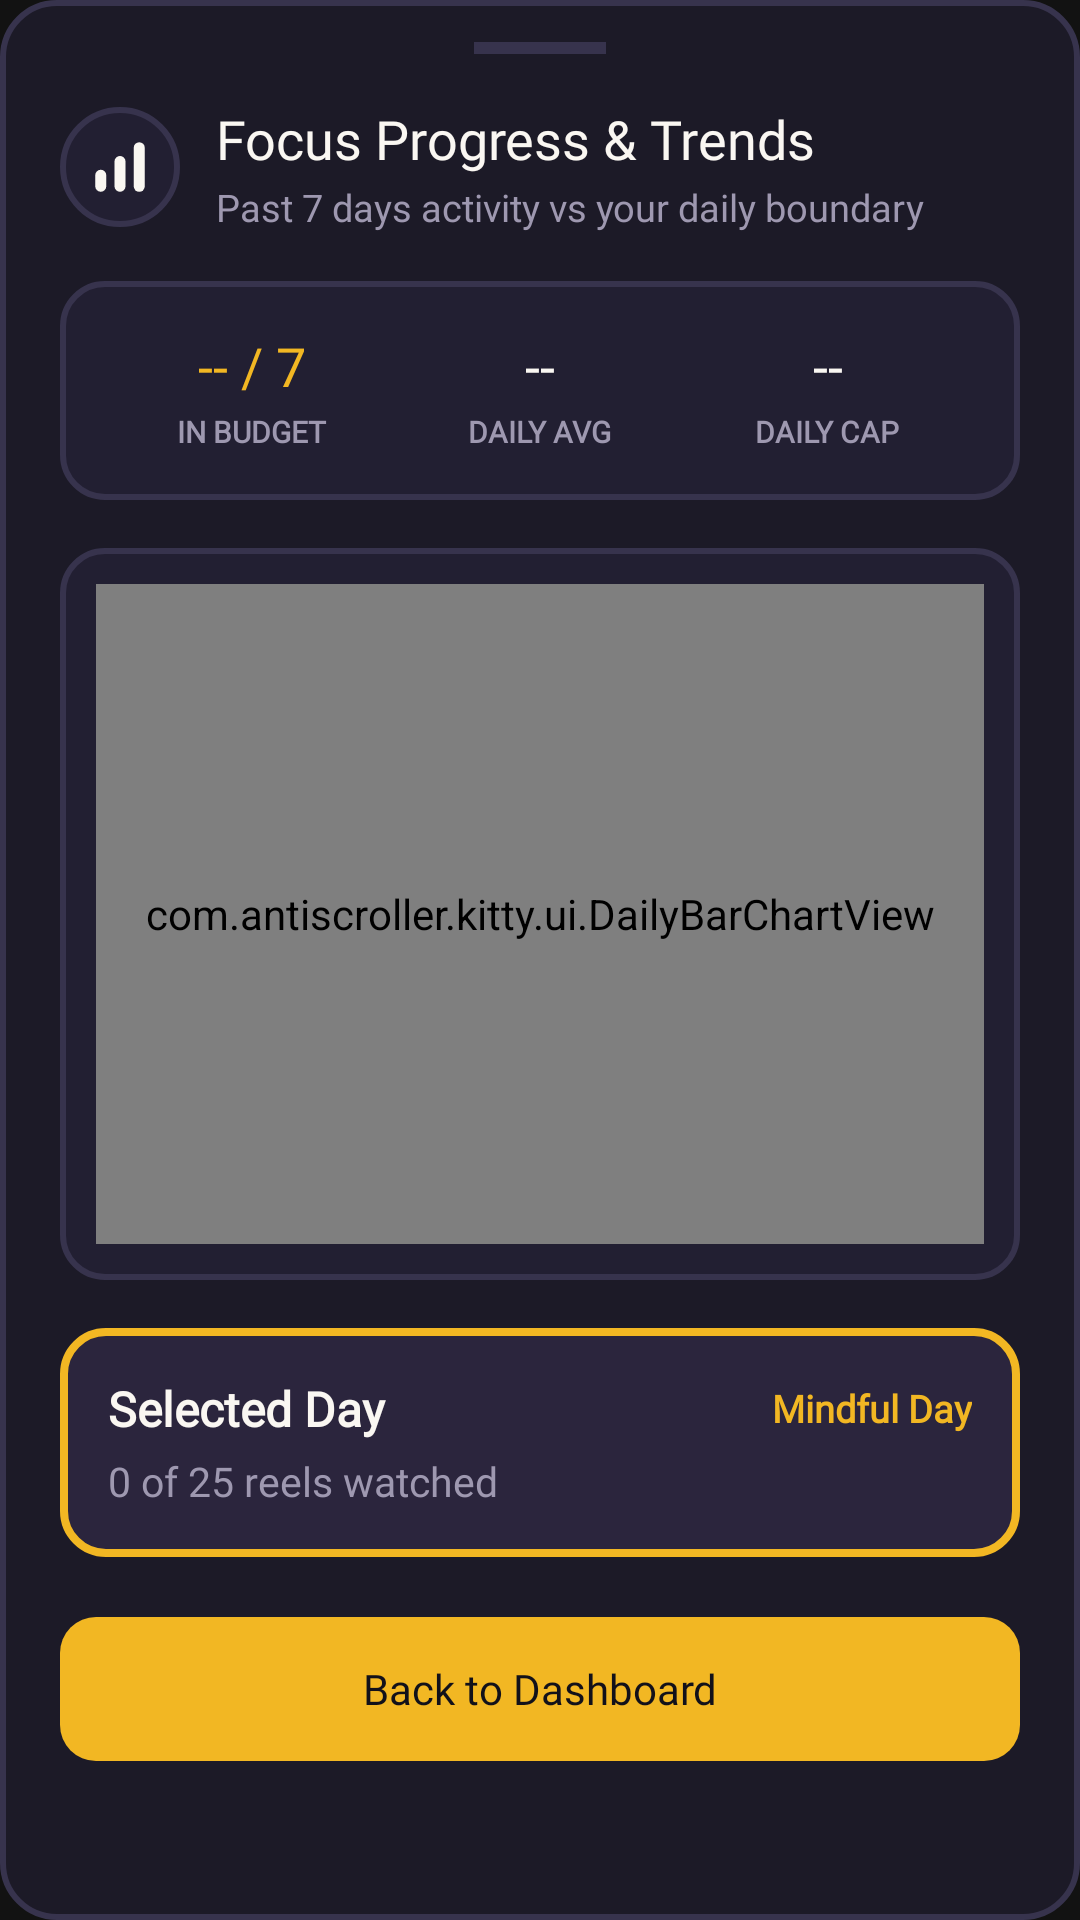

Screen size 1080 × 1920. Icon name, then its center in pixels as [x,y]:
chart progress: [120,167]
